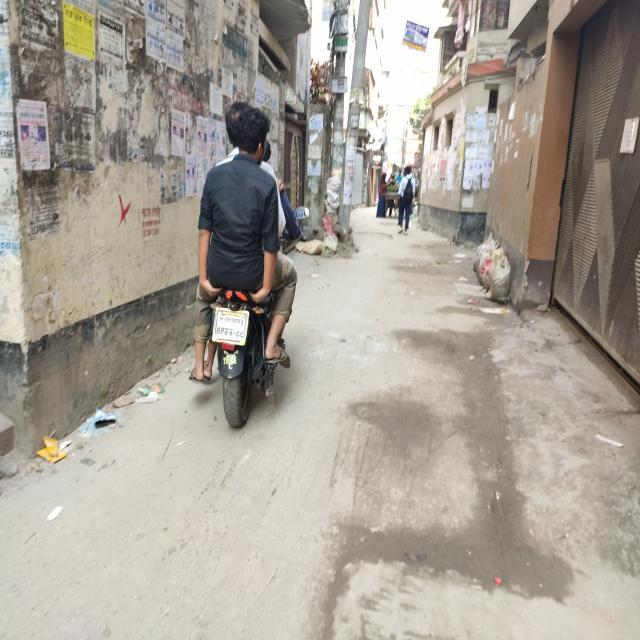Overloading: (190, 87, 335, 403)
